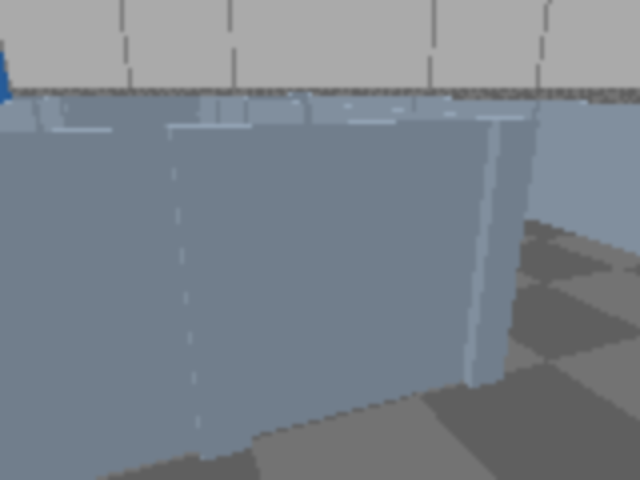person: (0, 0, 25, 179)
